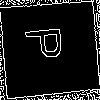P: (25, 24, 72, 62)
